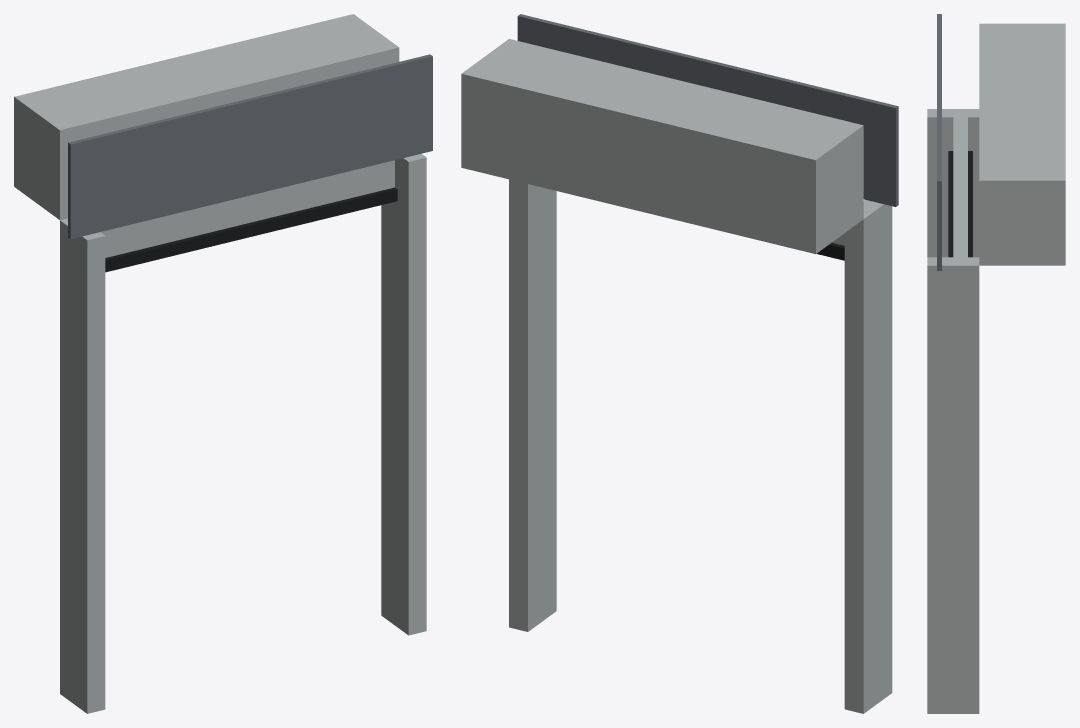
The model's file is roller_shutter_open.glb.
3 views of the same model, side by side, from view 1: azimuth 30°, elevation 25°; view 2: azimuth 150°, elevation 25°; view 3: azimuth 270°, elevation 25° (orthographic). The views are drawn at different scales.
Parts seen in each view (by area): view 1: roller_shutter_open; view 2: roller_shutter_open; view 3: roller_shutter_open.
Part boxes in pixels (x1,y1,x2,y2): roller_shutter_open: (14,14,432,713); roller_shutter_open: (461,14,898,713); roller_shutter_open: (927,14,1065,713).
Bounding box in the file's own units: 1.6 × 2.4 × 0.56.
Materials: 1 (1 with a texture image).
